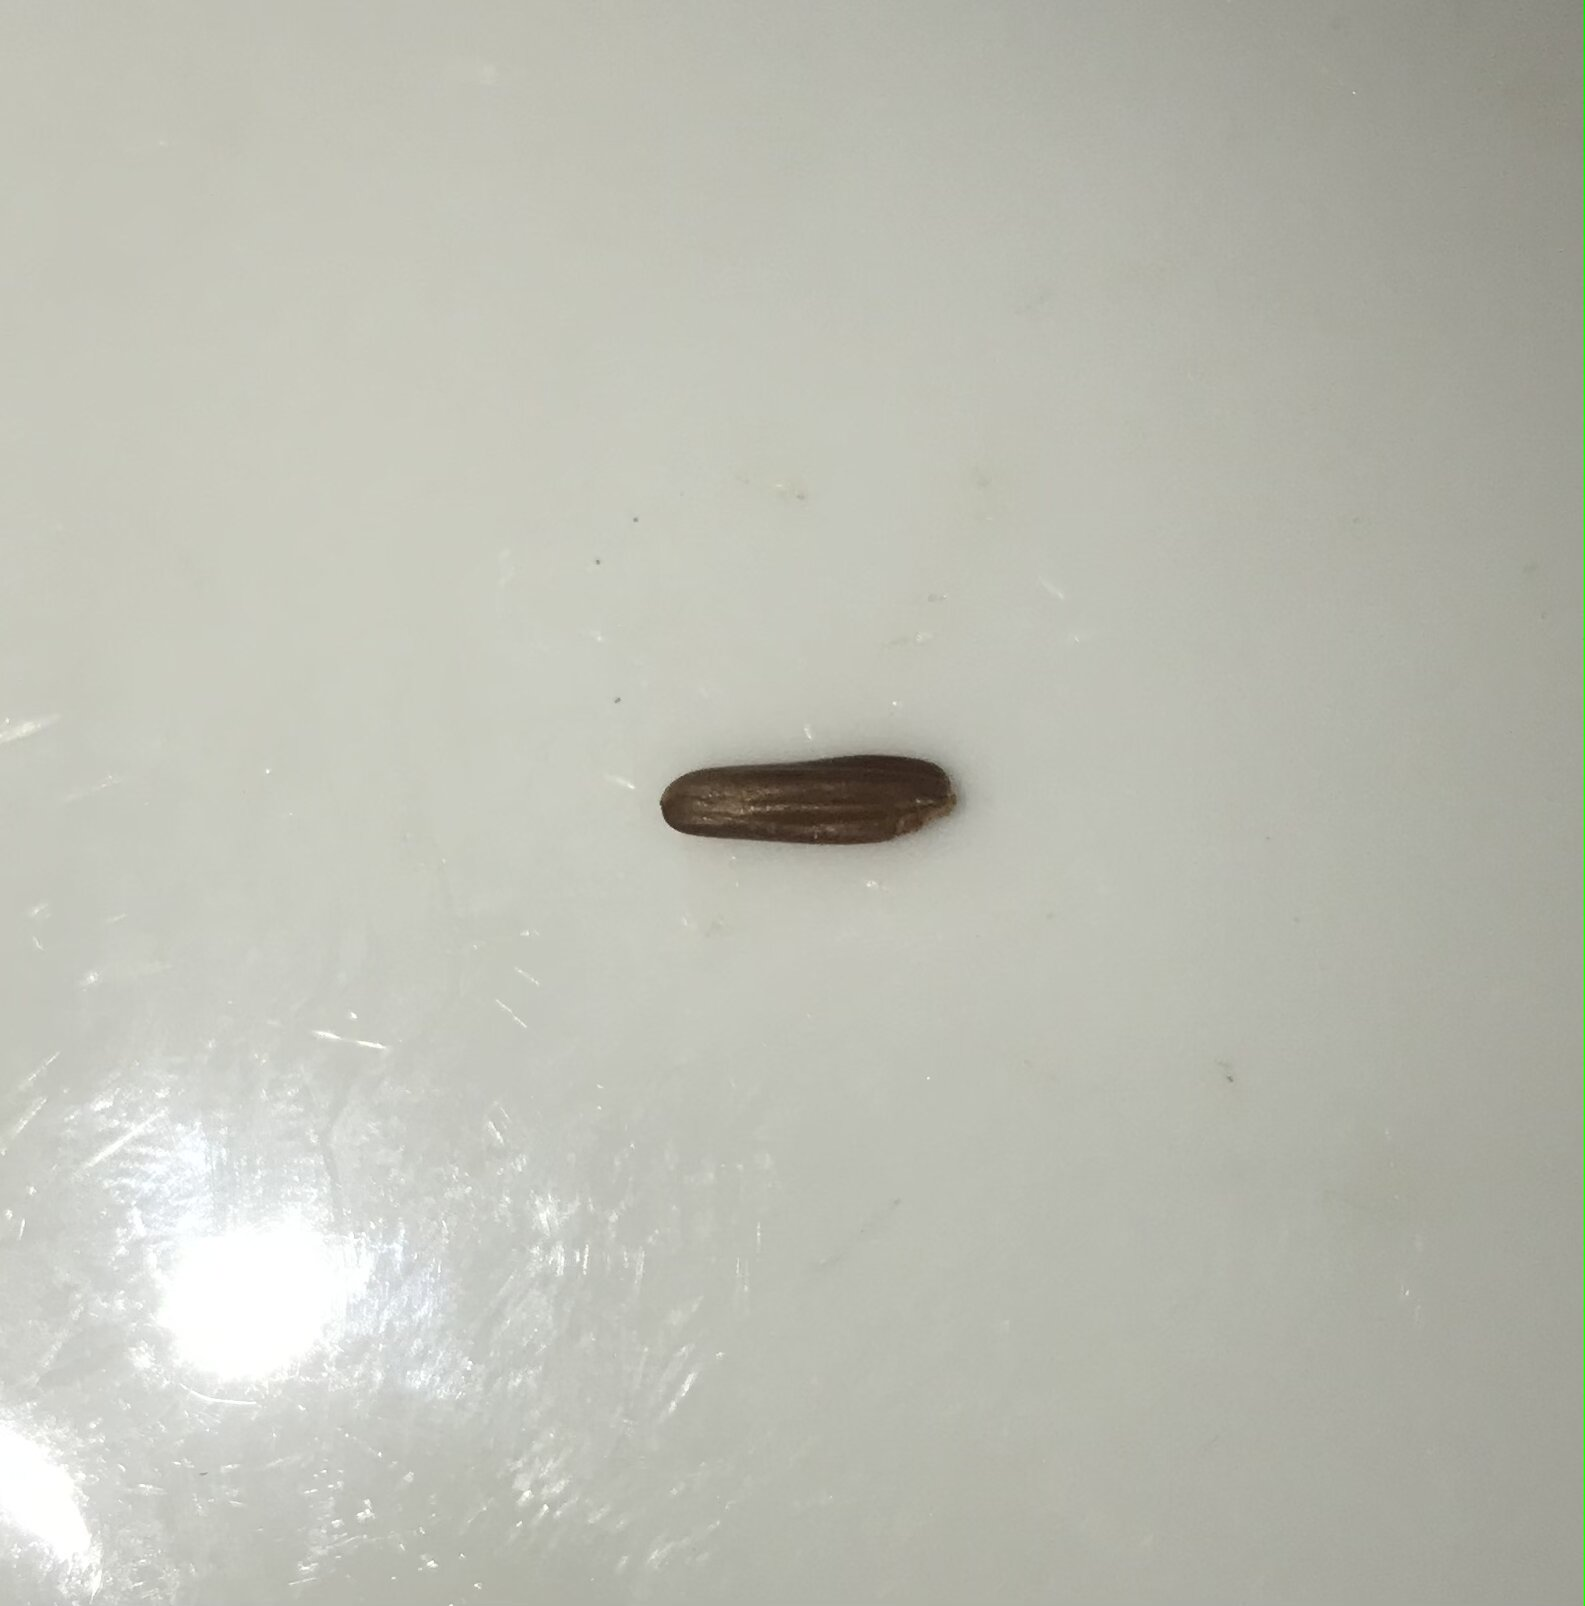Gao Huyet Rong: (642, 730, 967, 873)
